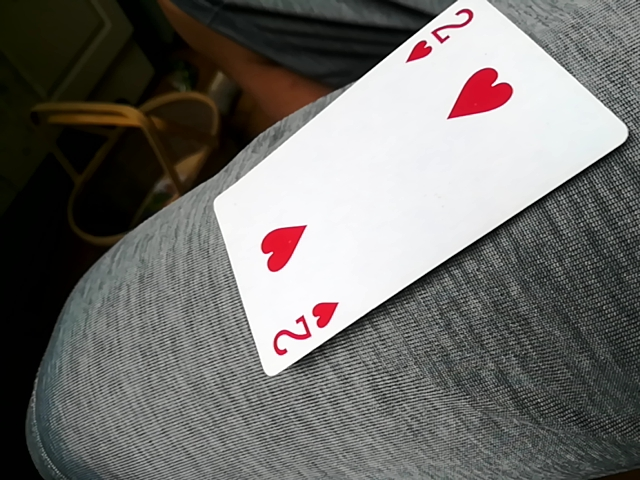hx 2: (212, 2, 625, 379)
